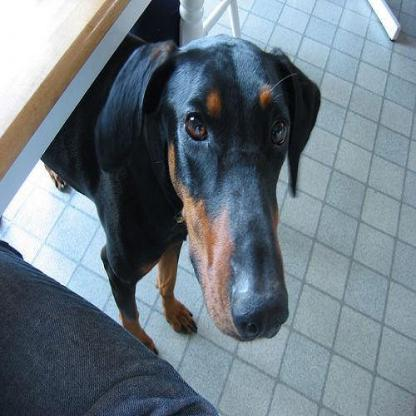Doberman: (39, 30, 320, 355)
